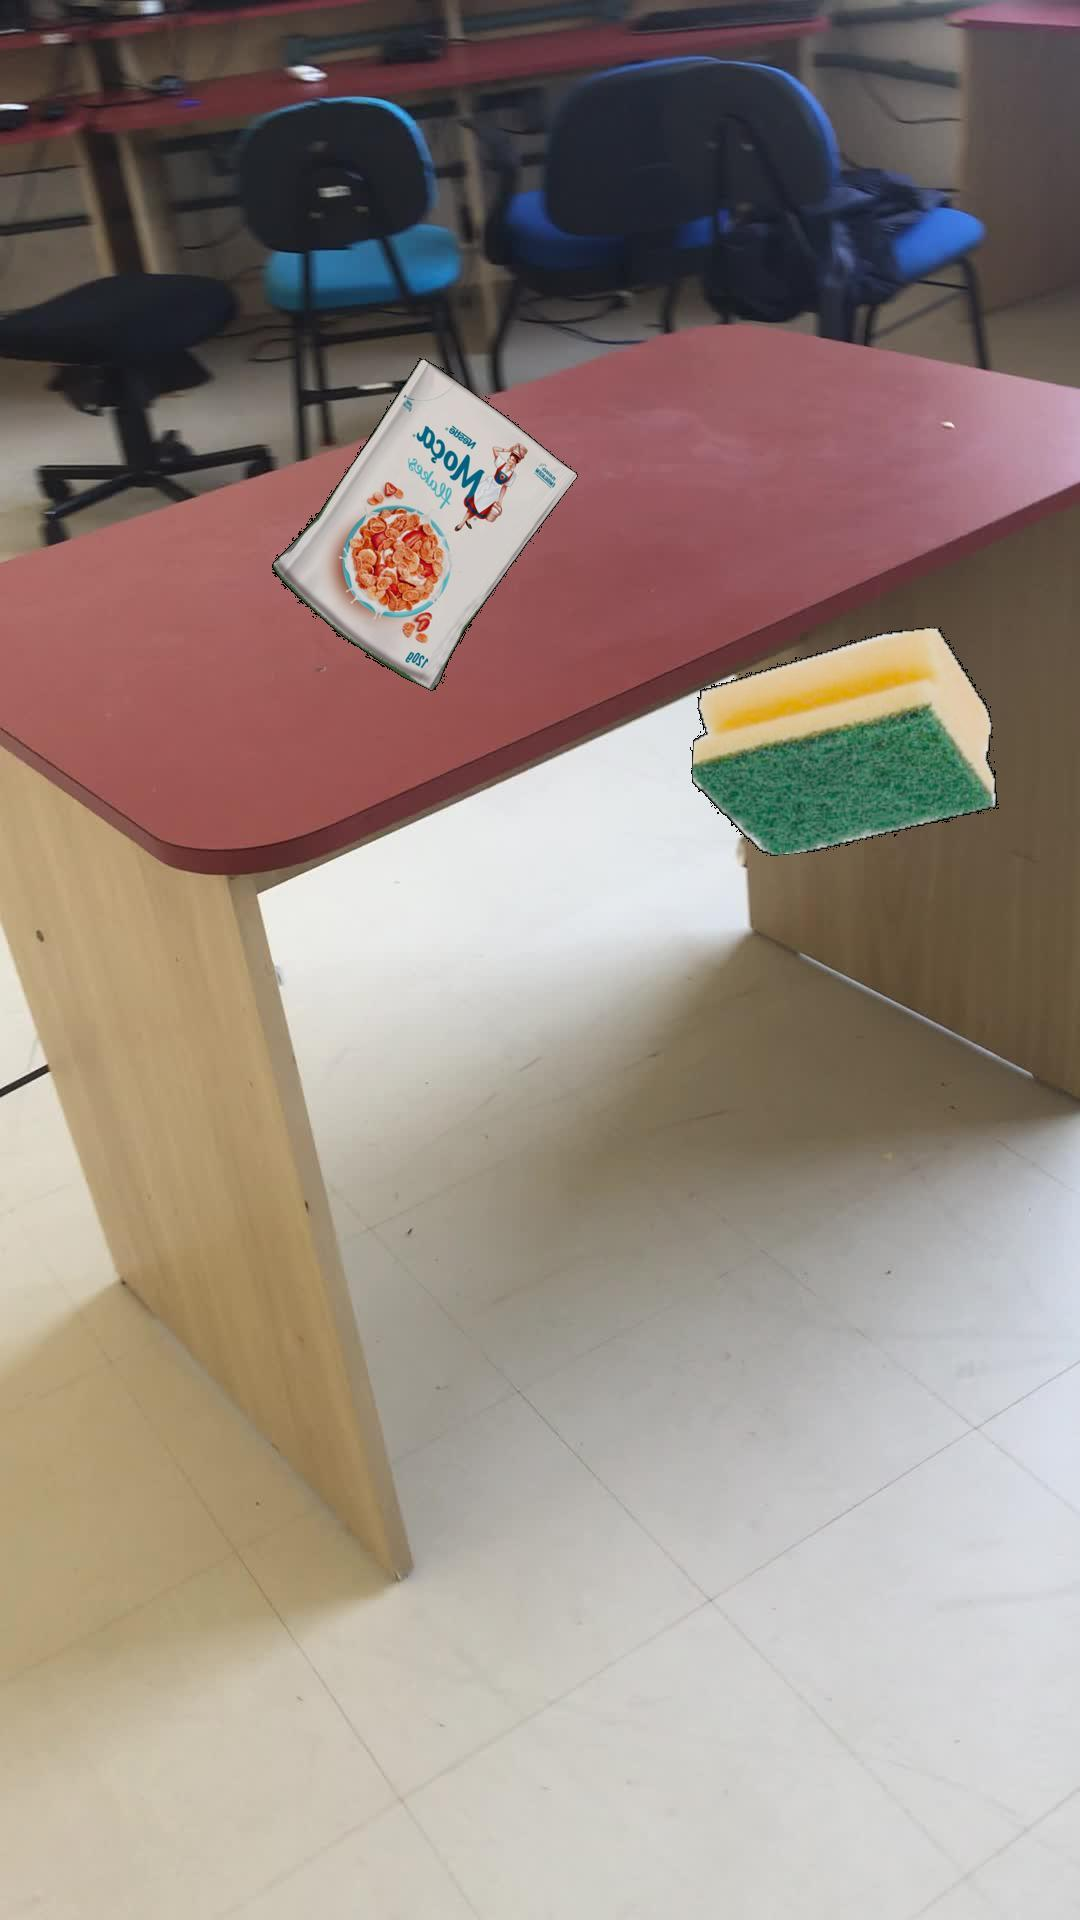corn flakes: (270, 356, 576, 690)
sponge: (690, 626, 997, 855)
